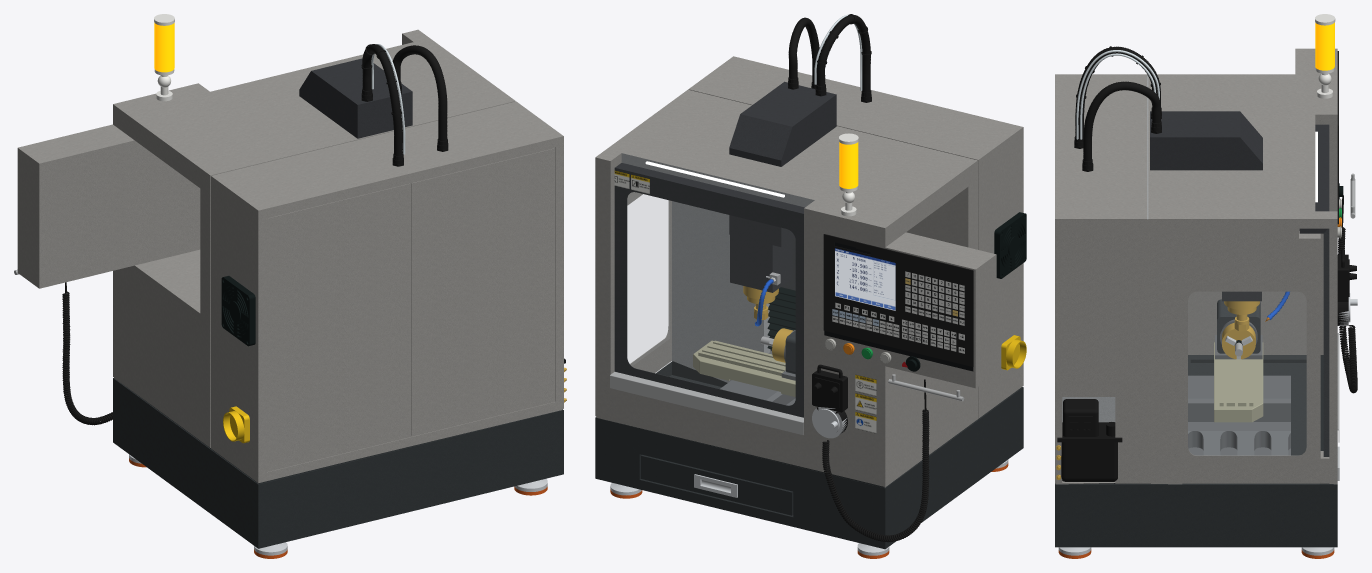
File: mcs-series.glb
3 views of the same model, side by side, from view 1: azimuth 30°, elevation 25°; view 2: azimuth 150°, elevation 25°; view 3: azimuth 270°, elevation 25° (orthographic). The views are drawn at different scales.
Visible parts, largest first — view 1: paint_light, paint_base, paint_head, conduit_black_plastic, black_matte, black_plastic, lamp_amber, yellow; view 2: paint_light, paint_base, paint_interior, paint_head, panel_black, paint_frame, glass, keypad, stainless, black_plastic, table_steel, black_matte (+10 smaller); view 3: paint_light, paint_base, paint_head, steel_dark, black_plastic, table_steel, conduit_black_plastic, paint_frame, brass, chrome, pneumatic_glass, lamp_amber (+4 smaller).
Boxes of the visible parts, x1=… form: paint_light: x1=17, y1=29, x2=563, y2=483; paint_base: x1=113, y1=378, x2=563, y2=548; paint_head: x1=299, y1=58, x2=412, y2=138; conduit_black_plastic: x1=361, y1=44, x2=448, y2=166; black_matte: x1=221, y1=276, x2=255, y2=346; black_plastic: x1=62, y1=44, x2=565, y2=425; lamp_amber: x1=154, y1=23, x2=174, y2=72; yellow: x1=223, y1=406, x2=249, y2=443; paint_light: x1=595, y1=56, x2=1023, y2=487; paint_base: x1=595, y1=361, x2=1023, y2=549; paint_interior: x1=621, y1=153, x2=814, y2=382; paint_head: x1=615, y1=81, x2=836, y2=292; panel_black: x1=823, y1=234, x2=973, y2=366; paint_frame: x1=614, y1=168, x2=803, y2=417; glass: x1=627, y1=192, x2=669, y2=365; keypad: x1=824, y1=242, x2=973, y2=371; stainless: x1=610, y1=272, x2=964, y2=434; black_plastic: x1=812, y1=14, x2=929, y2=542; table_steel: x1=693, y1=340, x2=795, y2=396; black_matte: x1=767, y1=212, x2=1026, y2=371; paint_light: x1=1055, y1=48, x2=1337, y2=484; paint_base: x1=1055, y1=355, x2=1337, y2=547; paint_head: x1=1150, y1=111, x2=1329, y2=301; steel_dark: x1=1188, y1=319, x2=1290, y2=455; black_plastic: x1=1057, y1=46, x2=1357, y2=481; table_steel: x1=1214, y1=342, x2=1263, y2=422; conduit_black_plastic: x1=1074, y1=46, x2=1161, y2=171; paint_frame: x1=1323, y1=228, x2=1329, y2=456; brass: x1=1056, y1=301, x2=1259, y2=479; chrome: x1=1058, y1=293, x2=1357, y2=555; pneumatic_glass: x1=1076, y1=50, x2=1159, y2=139; lamp_amber: x1=1315, y1=22, x2=1334, y2=70.
Size of the model in its own units: 1.25 by 1.35 by 0.8353.
32 materials, 10 textured.
